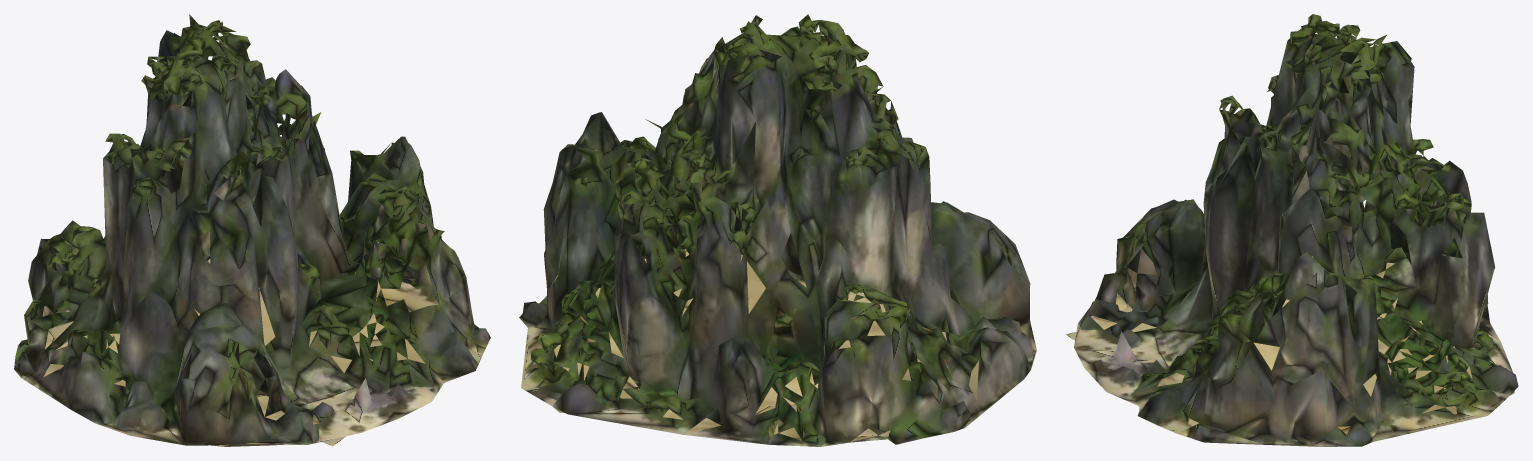
Rendered from karst-islet.glb.
3 renders of one model, left to right at view 1: azimuth 30°, elevation 25°; view 2: azimuth 150°, elevation 25°; view 3: azimuth 270°, elevation 25°, orthographic. The views are drawn at different scales.
Visible parts, largest first — view 1: geometry_0; view 2: geometry_0; view 3: geometry_0.
Part boxes in pixels (<box>): geometry_0: <box>14,14,490,446</box>; geometry_0: <box>519,14,1036,446</box>; geometry_0: <box>1066,14,1518,446</box>.
Bounding box in the file's own units: 1.31 × 0.9937 × 1.29.
1 material, 1 textured.
